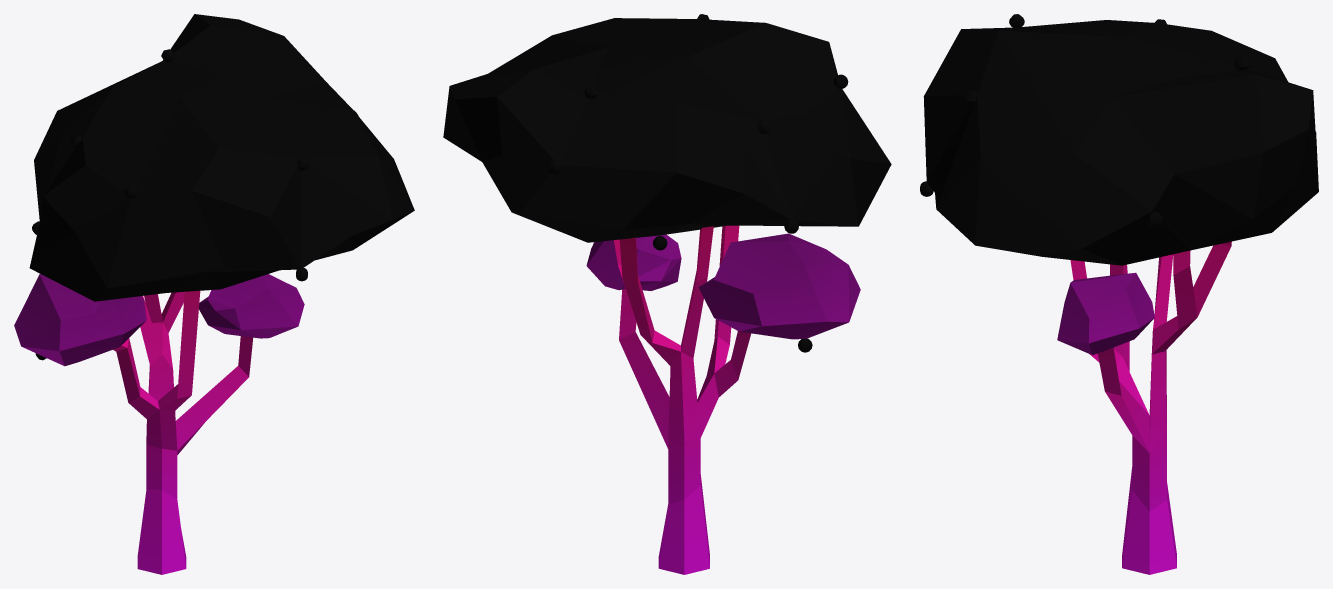
Rendered from PA_TreeSet1_Pile5.fbx.
3 renders of one model, left to right at view 1: azimuth 30°, elevation 25°; view 2: azimuth 150°, elevation 25°; view 3: azimuth 270°, elevation 25°, orthographic. The views are drawn at different scales.
Parts seen in each view (by area): view 1: PA_TreeSet1_Pile5; view 2: PA_TreeSet1_Pile5; view 3: PA_TreeSet1_Pile5.
Part boxes in pixels (<box>): PA_TreeSet1_Pile5: <box>14,14,414,574</box>; PA_TreeSet1_Pile5: <box>443,14,891,574</box>; PA_TreeSet1_Pile5: <box>920,14,1318,574</box>.
Bounding box in the file's own units: 306 × 400 × 268.
